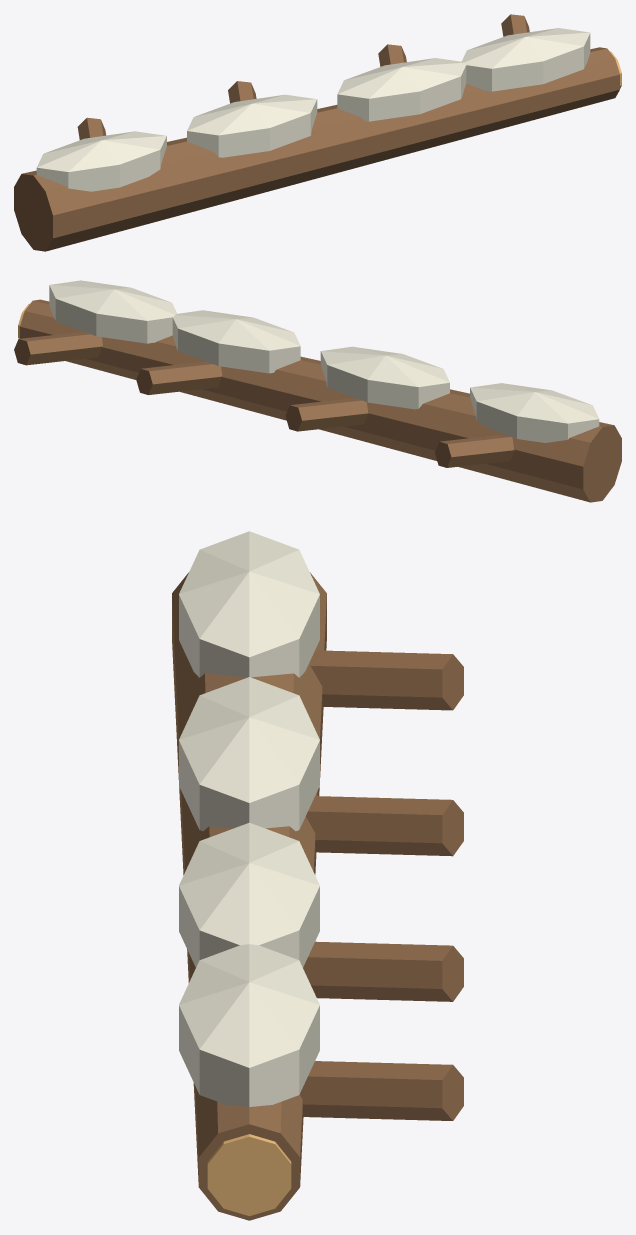
File: falling-tree.glb
3 renders of one model, top to bottom at view 1: azimuth 30°, elevation 25°; view 2: azimuth 150°, elevation 25°; view 3: azimuth 270°, elevation 25°, orthographic. The views are drawn at different scales.
Parts seen in each view (by area): view 1: trunk-and-snow; view 2: trunk-and-snow; view 3: trunk-and-snow.
Part boxes in pixels (x1,y1,x2,y2): trunk-and-snow: (14, 14, 621, 251); trunk-and-snow: (14, 280, 621, 502); trunk-and-snow: (172, 531, 463, 1220).
Size of the model in its own units: 4.23 by 0.65 by 0.932.
